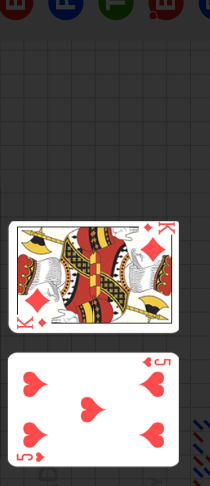5H: (141, 356, 172, 369)
KD: (142, 221, 176, 234)
